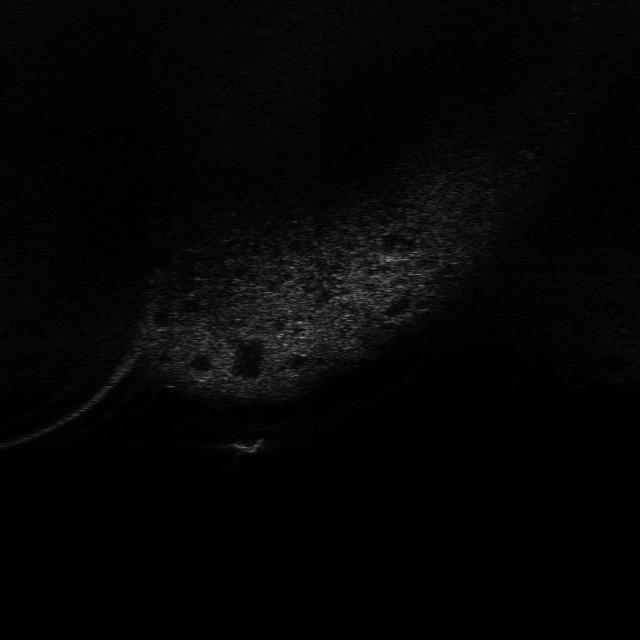cube: (224, 434, 276, 458)
